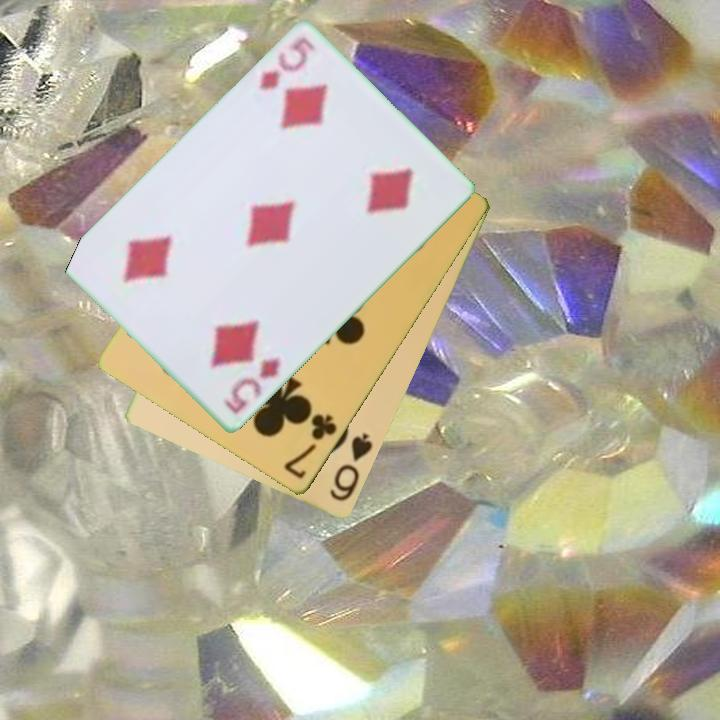5d: (219, 354, 284, 418), (255, 34, 318, 94)
6s: (326, 430, 376, 505)
7c: (280, 411, 340, 483)
